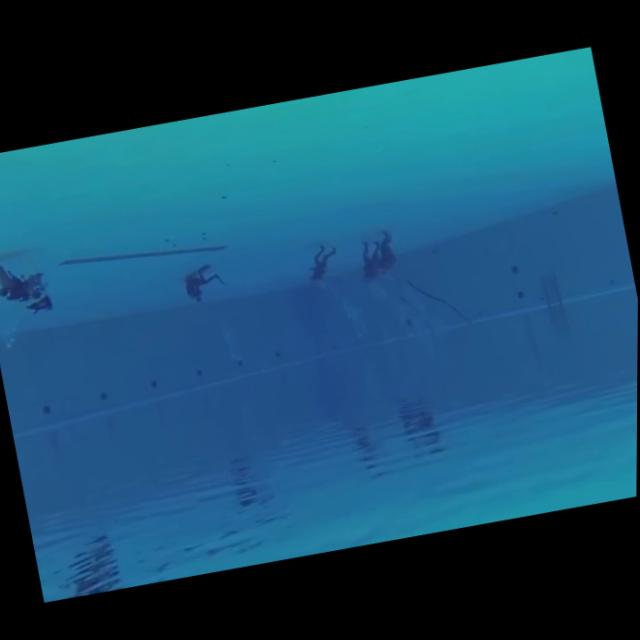human: (0, 244, 61, 328), (179, 257, 231, 311), (302, 236, 348, 288), (353, 232, 390, 289), (373, 223, 406, 277)
